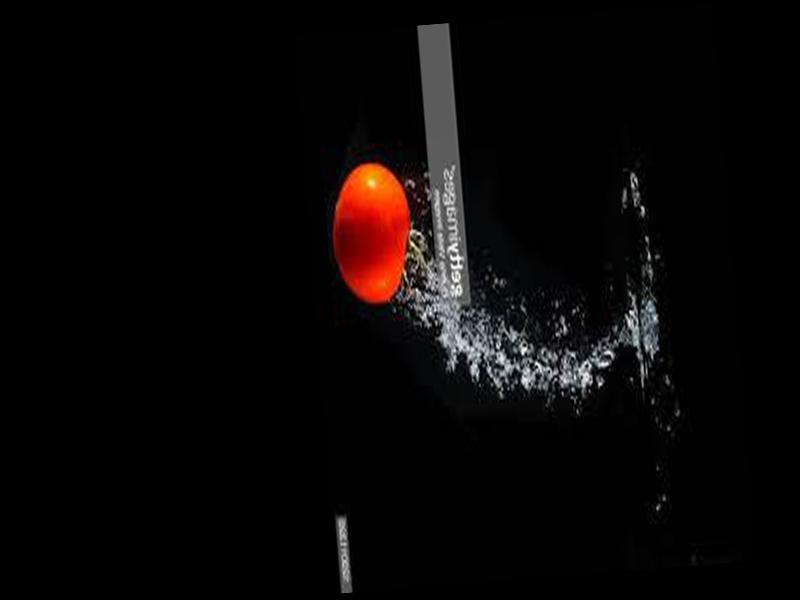Tomato: (330, 160, 416, 307)
